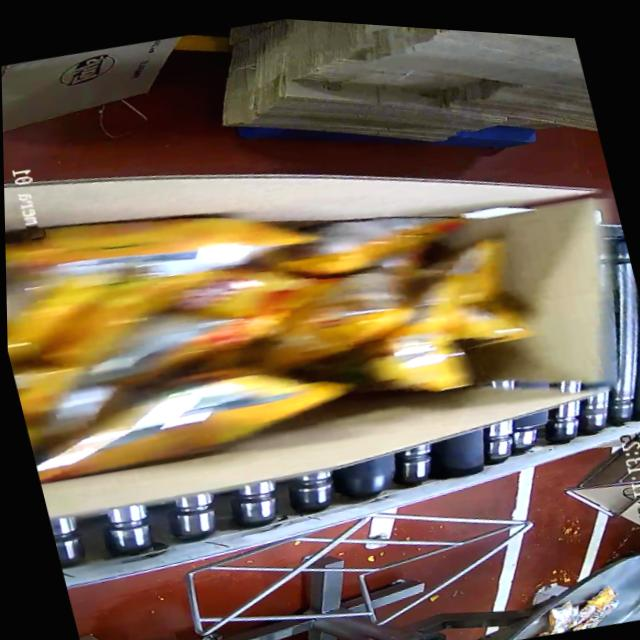FRENCH_CHEESE: (2, 104, 572, 518)
